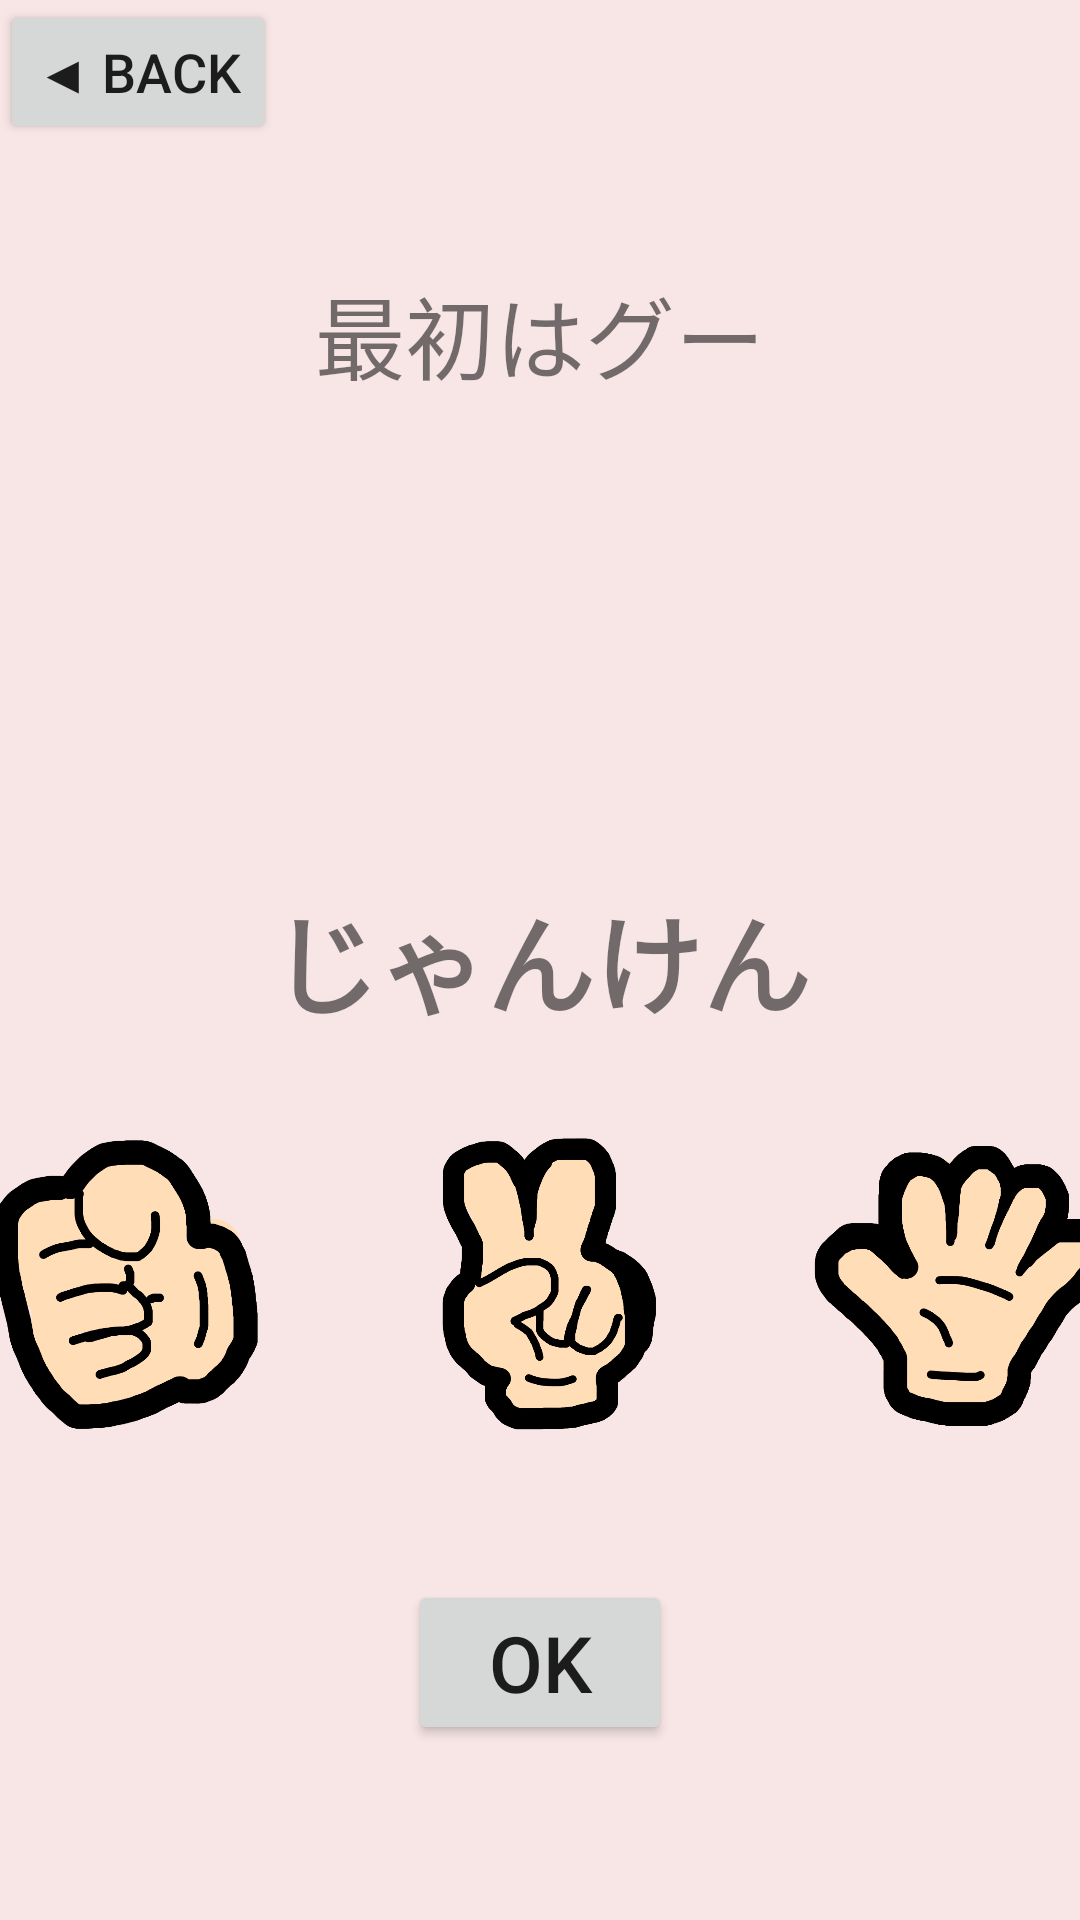

Where to tap for icons on this 1080 x 1920 app screen, as (x=x, y=y):
hand paper pic: (x=947, y=1286)
hand rock pic: (x=129, y=1284)
hand scissors pic: (x=549, y=1284)
